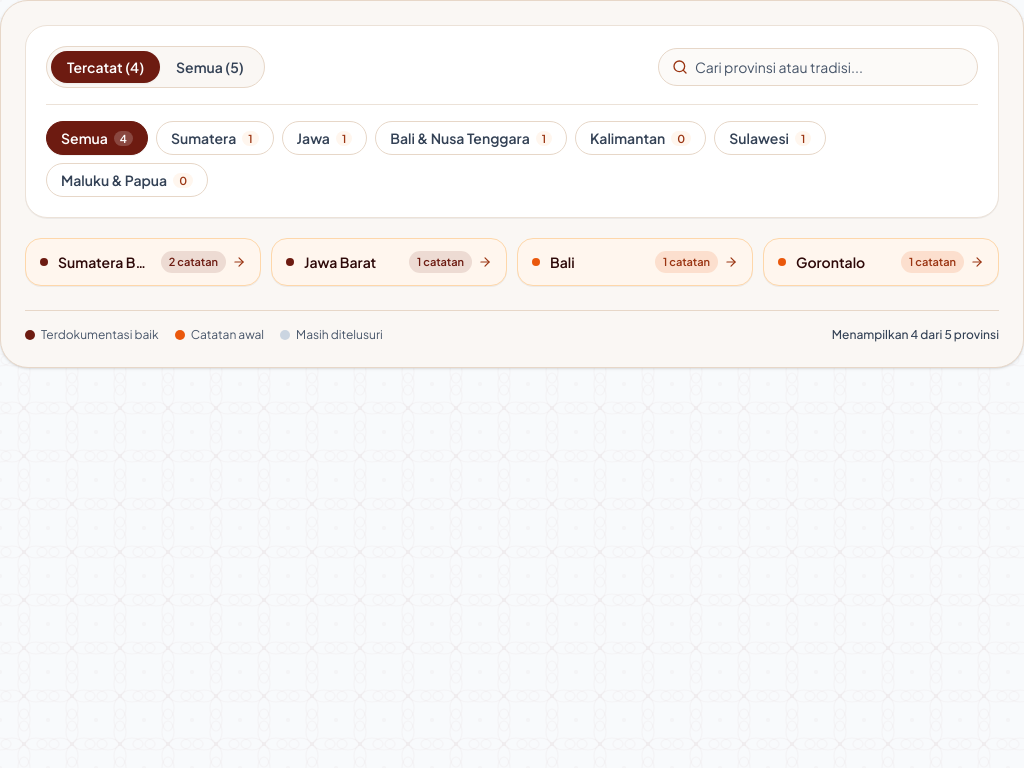
ProvinceExplorer › secara default menampilkan provinsi tercatat dan bisa beralih ke Semua
Check: the button "Sumatera Barat 2 catatan" is shown, box 25,238 -> 261,286
Click the button "Semua (5)" at [210, 67], box 160,51 -> 260,83
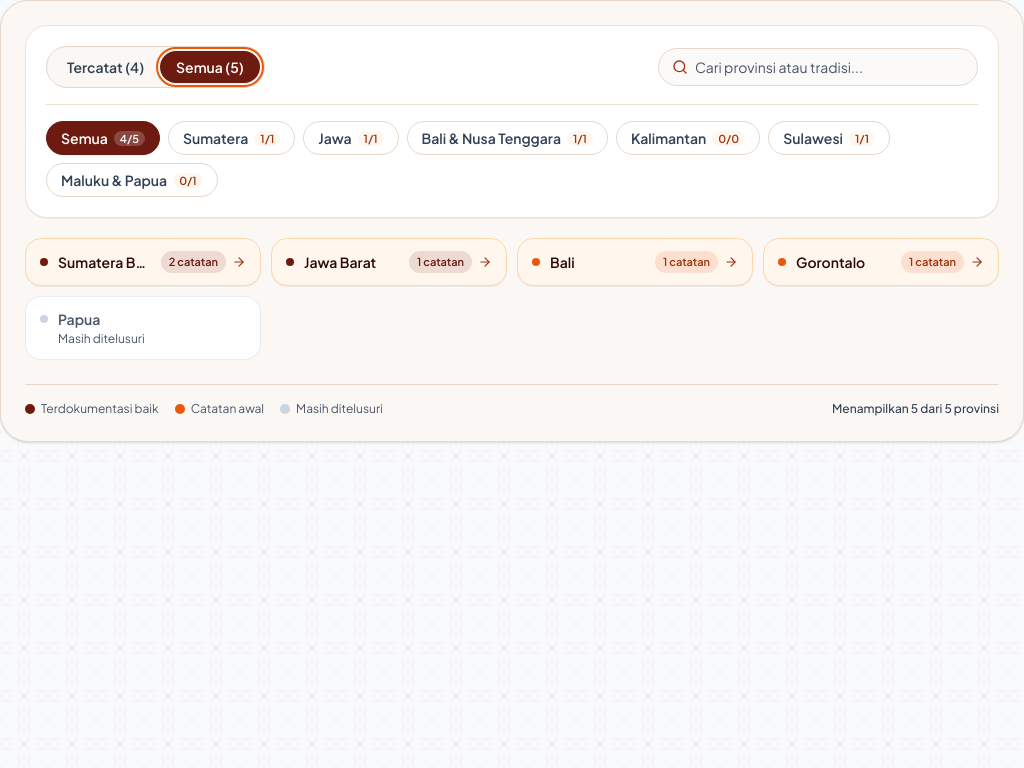
Check: the button "Papua Masih ditelusuri" is shown, box 25,296 -> 261,360
Check: the text "Menampilkan 5 dari 5 provinsi" is shown, box 832,401 -> 999,417
